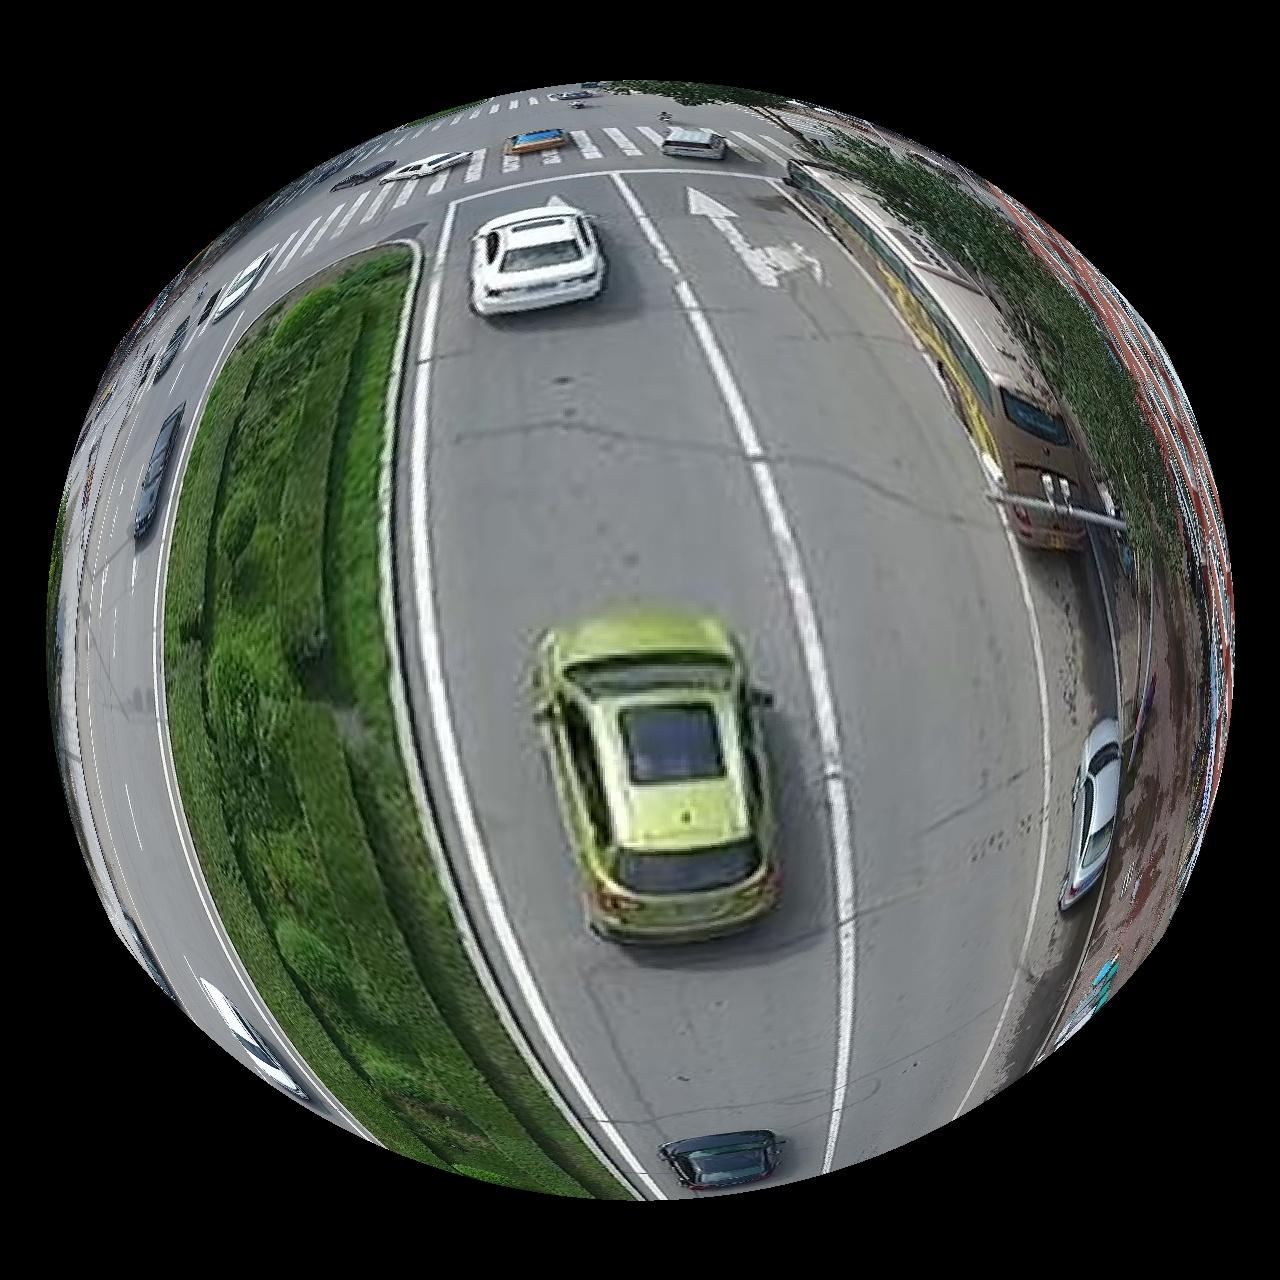cars: (788, 159, 1088, 551), (532, 606, 782, 945), (471, 196, 606, 314), (1062, 719, 1125, 911), (132, 404, 182, 539)
trees: (164, 244, 627, 1199)
